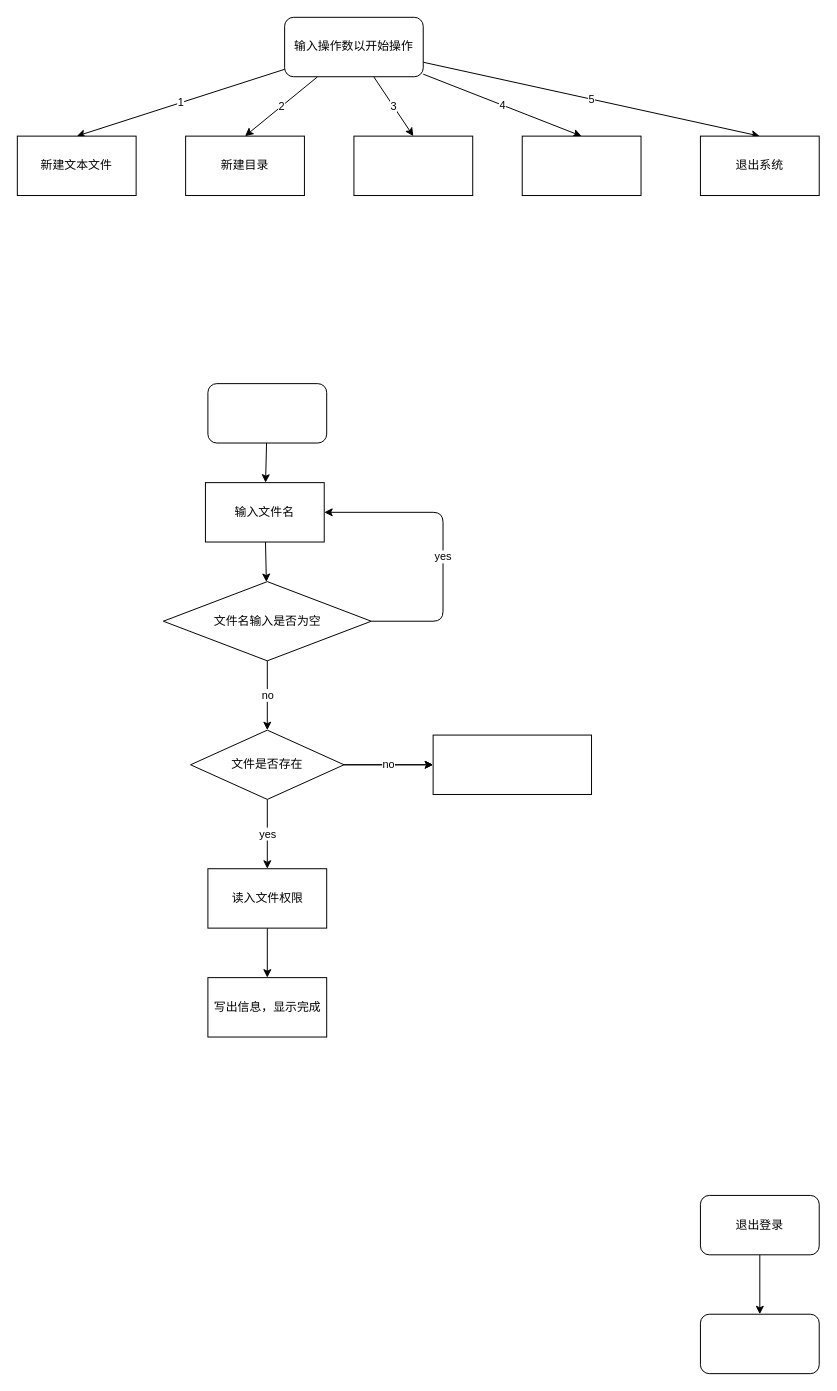
The diagram is 837 pixels wide and 1391 high, and some of its shapes have lost their labels. Each missing label, with the box of its shape:
文件不存在，无法查看: (432, 734, 592, 794)
权限查看: (521, 135, 641, 196)
查看文件权限: (207, 383, 327, 443)
统计文档信息: (353, 135, 473, 196)
退出登录成功: (699, 1313, 819, 1374)
